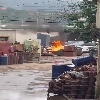fire: (48, 41, 64, 51)
